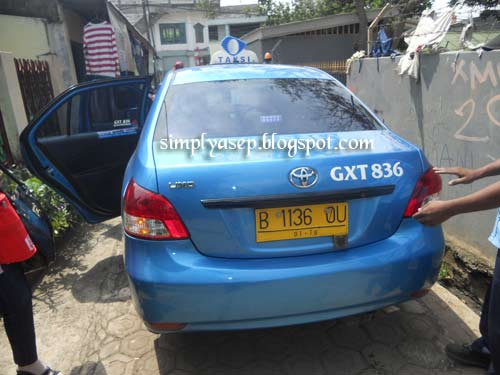plate: (255, 203, 349, 239)
